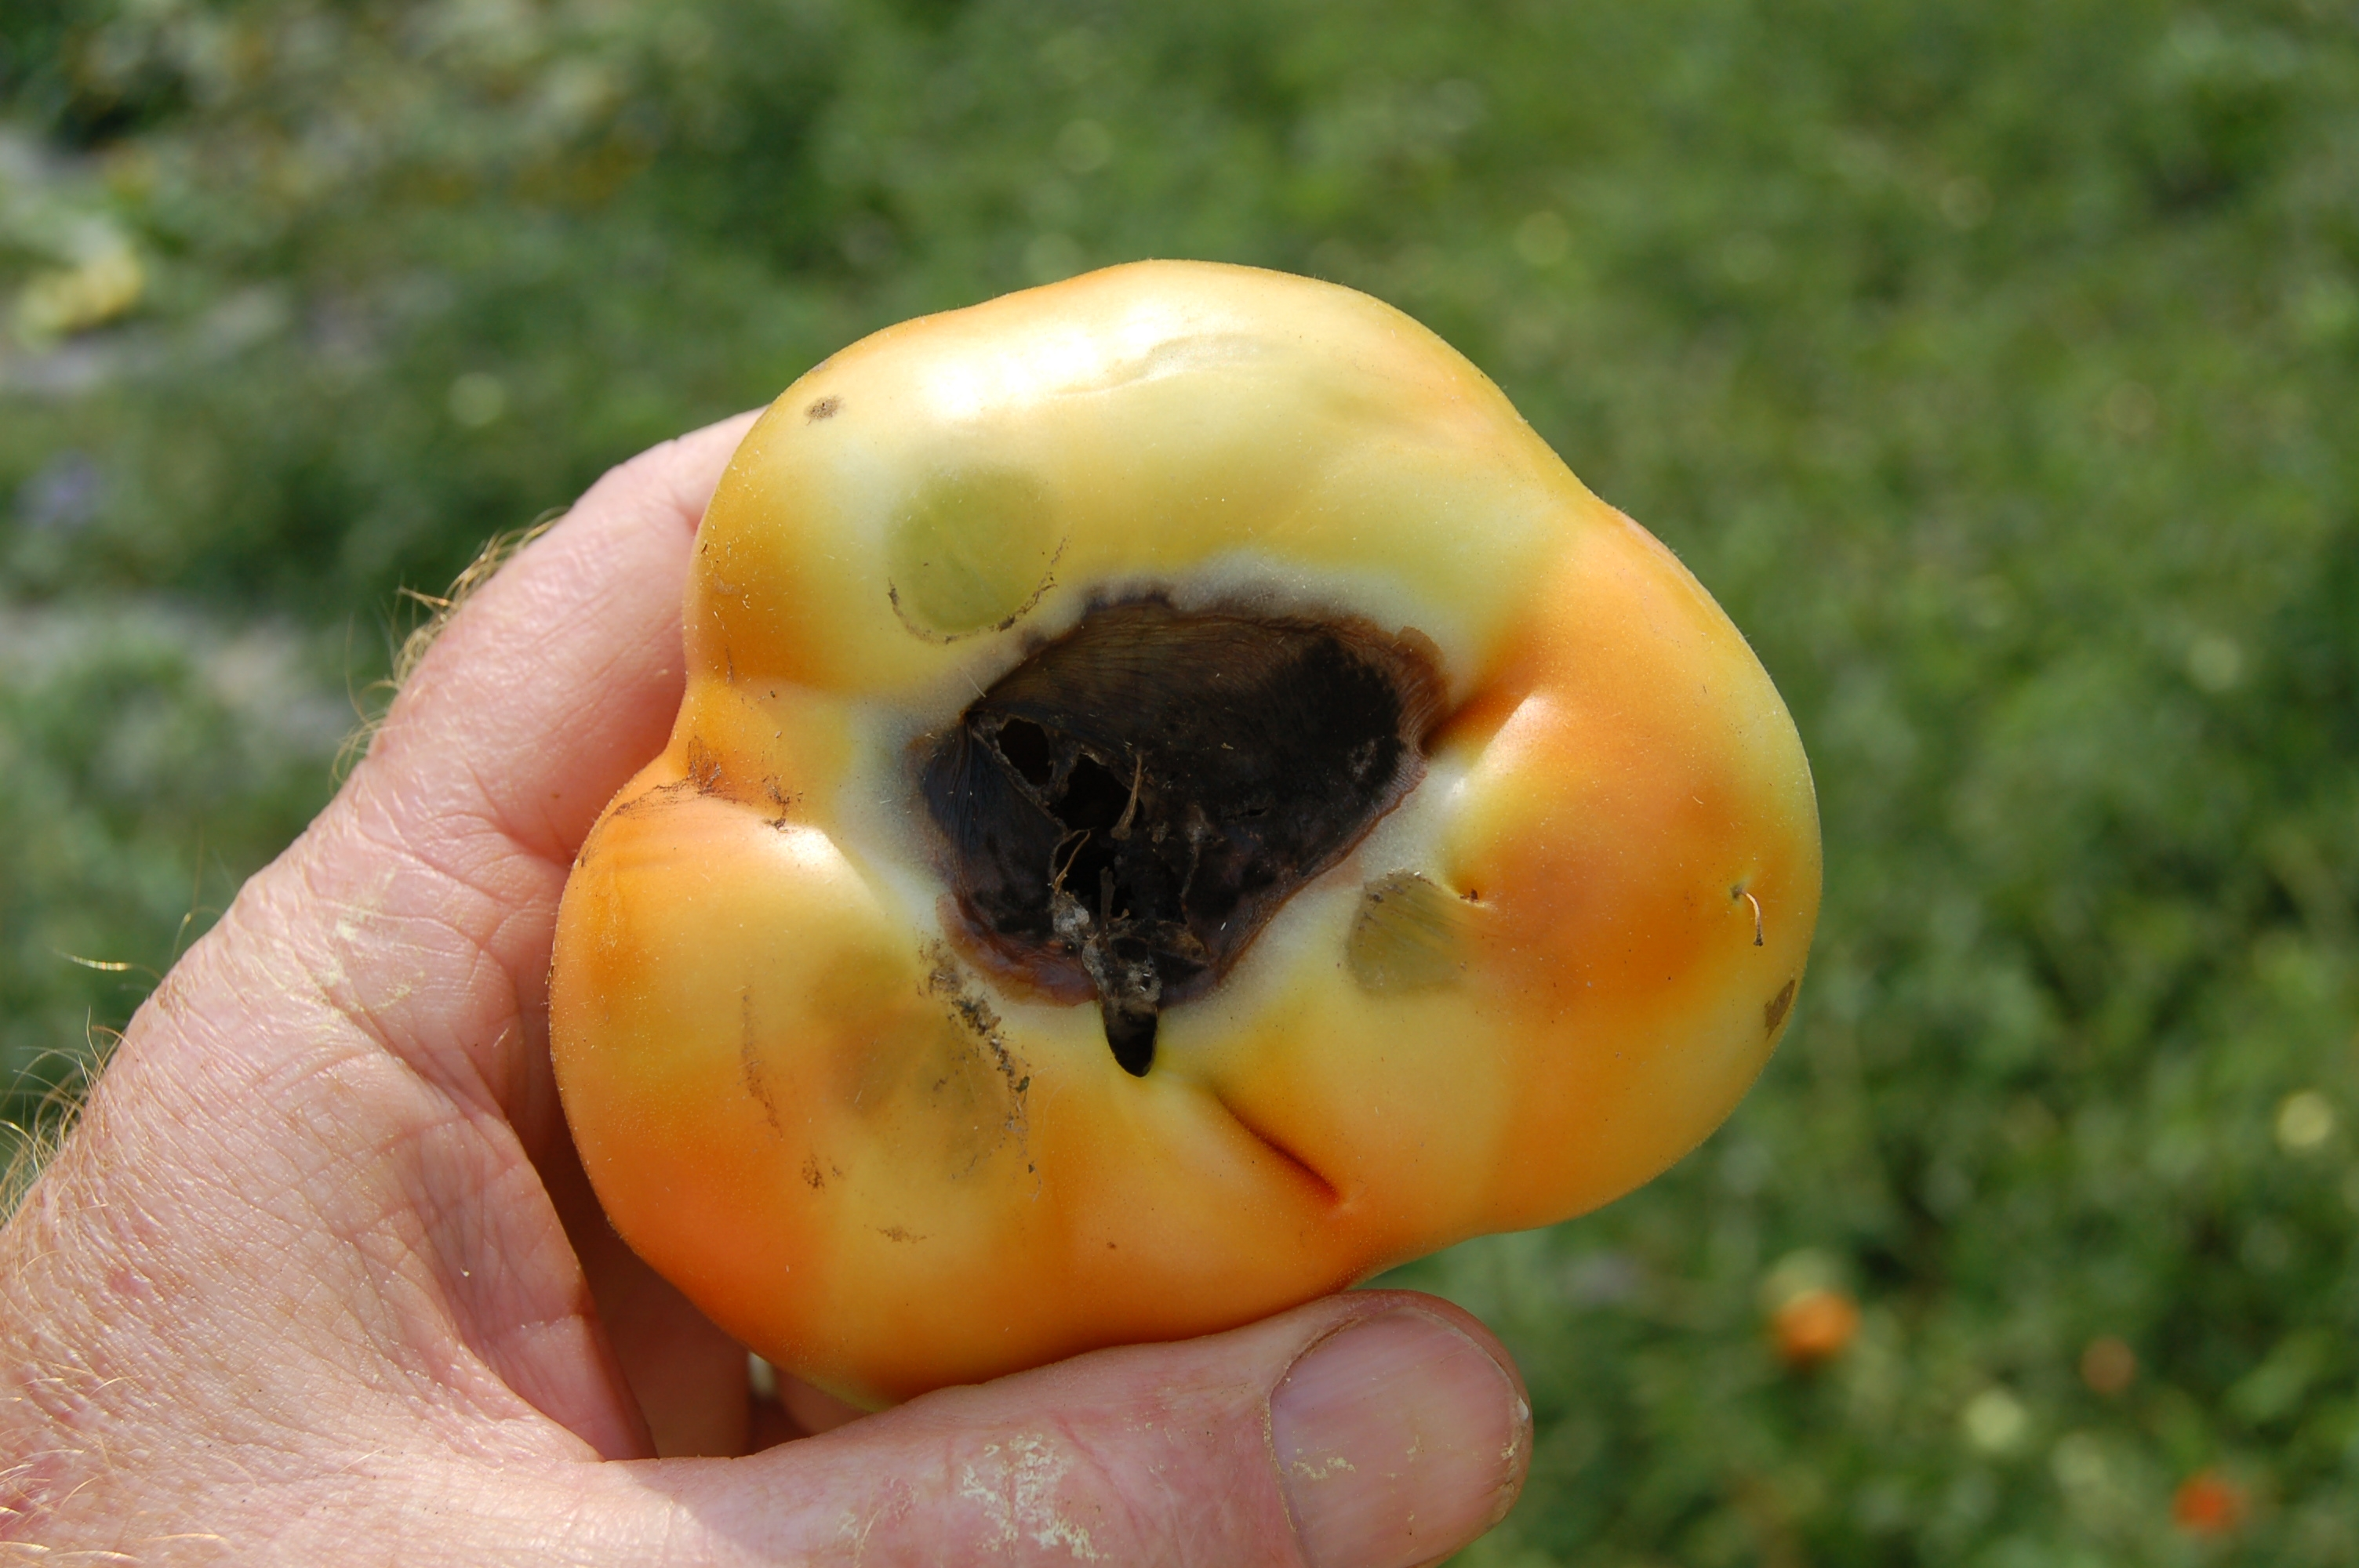blossom_rotw: (835, 543, 1633, 1151)
